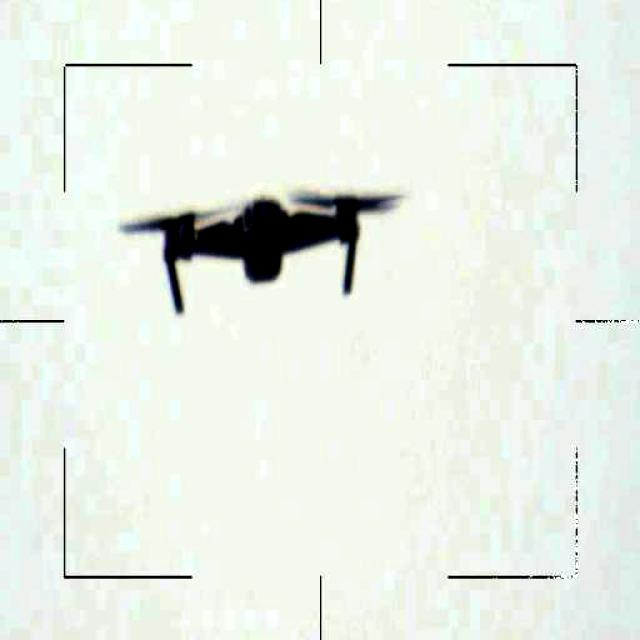bird: (119, 169, 406, 324)
